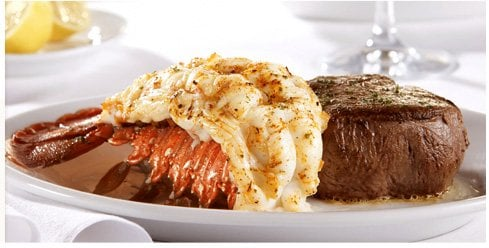soup: (8, 51, 328, 214), (308, 72, 470, 203)
